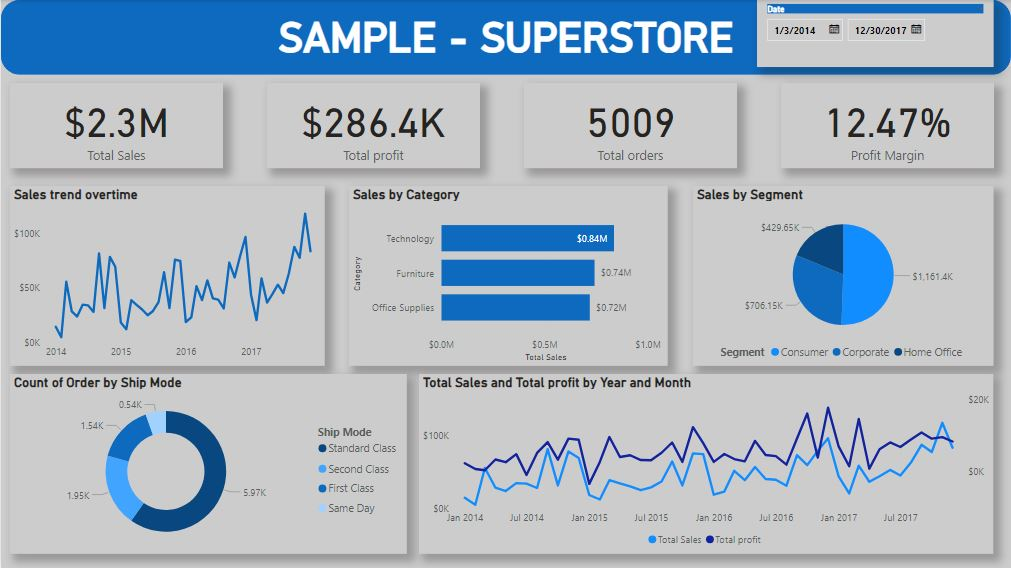

The dashboard page shown, as its layout file describes it:
{"tool":"powerbi","page":{"name":"Page 1","canvas":[1280,720],"ordinal":0},"visuals":[{"type":"shape","box":[0,0,1280.2,94.5],"z":0},{"type":"card","fields":{"Values":["Sample - Superstore.Total Sales"]},"box":[11.1,105.6,269.7,108.4],"z":1000},{"type":"card","fields":{"Values":["Sample - Superstore.Total profit"]},"box":[336.8,105.6,269.7,108.4],"z":2000},{"type":"card","fields":{"Values":["Sample - Superstore.Profit Margin"]},"box":[988.3,105.6,269.7,108.4],"z":3000},{"type":"card","fields":{"Values":["Sample - Superstore.Total orders"]},"box":[662.5,105.6,269.7,108.4],"z":4000},{"type":"lineChart","title":"Sales trend overtime","fields":{"Y":["Sample - Superstore.Total Sales"],"Category":["Sample - Superstore.Order Date.Variation.Date Hierarchy.Year","Sample - Superstore.Order Date.Variation.Date Hierarchy.Month"]},"box":[11.1,236.3,398.9,228],"z":5000},{"type":"clusteredBarChart","title":"Sales by Category","fields":{"Category":["Sample - Superstore.Category"],"Y":["Sample - Superstore.Total Sales"]},"box":[441.3,236.3,404.5,228],"z":6000},{"type":"pieChart","title":"Sales by Segment","fields":{"Category":["Sample - Superstore.Segment"],"Y":["Sample - Superstore.Total Sales"]},"box":[877.1,236.3,380.8,228],"z":7000},{"type":"donutChart","title":"Count of Order  by Ship Mode","fields":{"Y":["CountNonNull(Sample - Superstore.Order ID)"],"Category":["Sample - Superstore.Ship Mode"]},"box":[11.1,474,503.2,228],"z":8000},{"type":"lineChart","fields":{"Y":["Sample - Superstore.Total Sales"],"Y2":["Sample - Superstore.Total profit"],"Category":["Sample - Superstore.Order Date.Variation.Date Hierarchy.Year","Sample - Superstore.Order Date.Variation.Date Hierarchy.Month"]},"box":[529.6,474,728.3,228],"z":9000},{"type":"slicer","fields":{"Values":["Sample - Superstore.Order Date"]},"box":[957.7,0,300.2,84.8],"z":10000}]}

Visuals, with their boxes in screenshot pixels (x1, y1, x2, y2), scaled from the page's 1280x720 canvas onto the 1011x568 screenshot:
shape: l=0, t=0, r=1010, b=75
card - Sample - Superstore.Total Sales: l=9, t=83, r=222, b=169
card - Sample - Superstore.Total profit: l=266, t=83, r=479, b=169
card - Sample - Superstore.Profit Margin: l=781, t=83, r=994, b=169
card - Sample - Superstore.Total orders: l=523, t=83, r=736, b=169
"Sales trend overtime" lineChart: l=9, t=186, r=324, b=366
"Sales by Category" clusteredBarChart: l=349, t=186, r=668, b=366
"Sales by Segment" pieChart: l=693, t=186, r=994, b=366
"Count of Order  by Ship Mode" donutChart: l=9, t=374, r=406, b=554
lineChart - Sample - Superstore.Total Sales x Sample - Superstore.Total profit: l=418, t=374, r=994, b=554
slicer - Sample - Superstore.Order Date: l=756, t=0, r=994, b=67
